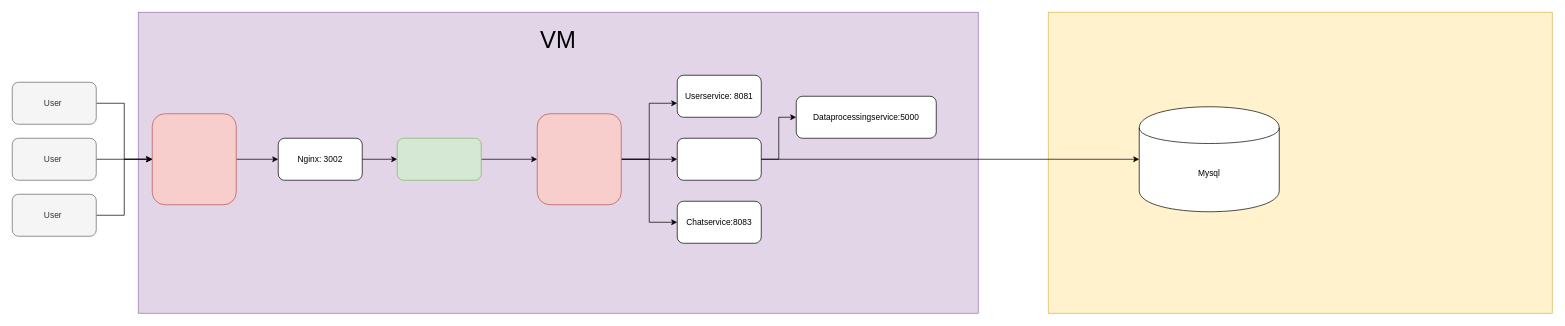
This 1565x326 diagram has some shape labels left out. The centre of each missing label's shape, as x and y in pixels:
"Eureka Load Balancer: 8761" belongs at pixel 579 159.
"Nginx Load Balancer:80" belongs at pixel 194 159.
"Postservice:8082" belongs at pixel 719 159.
"Zuul API Gateway: 8762" belongs at pixel 439 159.
